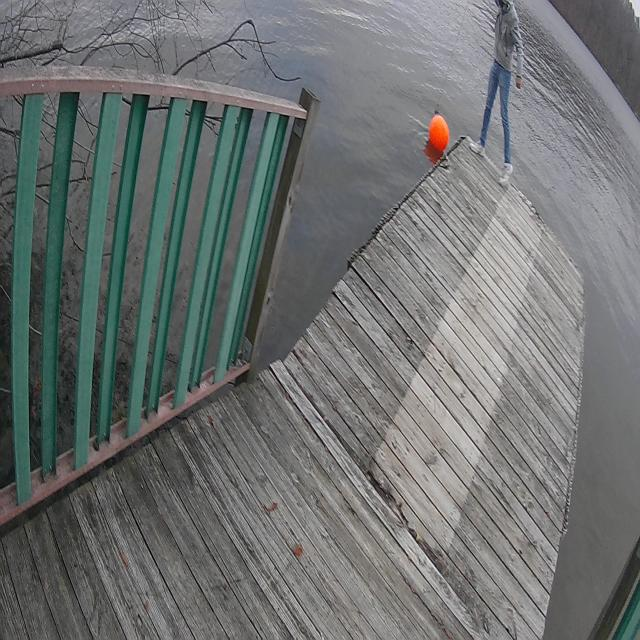Buoy: (428, 107, 450, 159)
